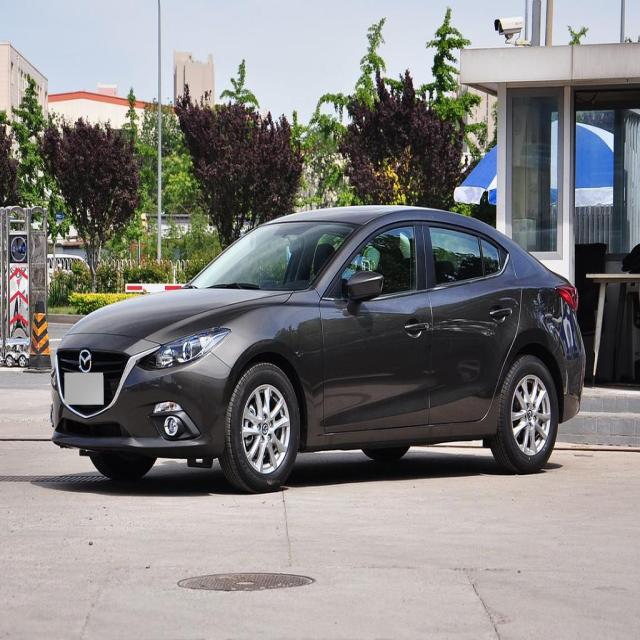back_left_side_light: (556, 275, 581, 314)
door: (421, 222, 524, 424)
front_bumper: (46, 332, 229, 452)
front_glass: (185, 219, 360, 289)
front_left_side_door: (320, 214, 436, 437)
front_left_side_light: (134, 322, 234, 376)
front_left_side_mirror: (344, 268, 384, 313)
rear_bumper: (552, 311, 587, 419)
wheel: (224, 365, 299, 482), (492, 358, 558, 472)
